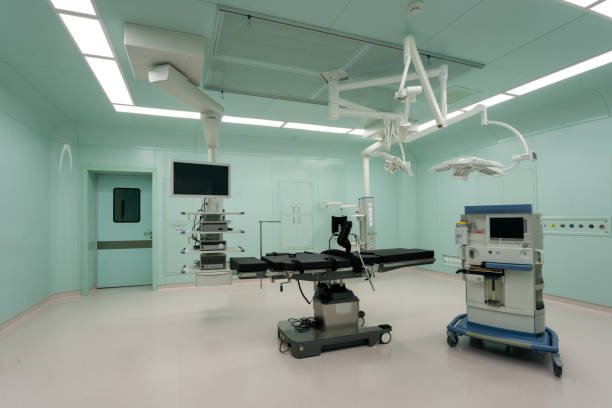bedside_monitor: (170, 160, 233, 198), (491, 218, 526, 242)
door_handle: (144, 231, 152, 237)
handle: (296, 207, 302, 224), (291, 207, 296, 224)
operating_bed: (230, 219, 436, 359)
surgical_light: (427, 156, 506, 182)
ventilator: (435, 205, 566, 375)
